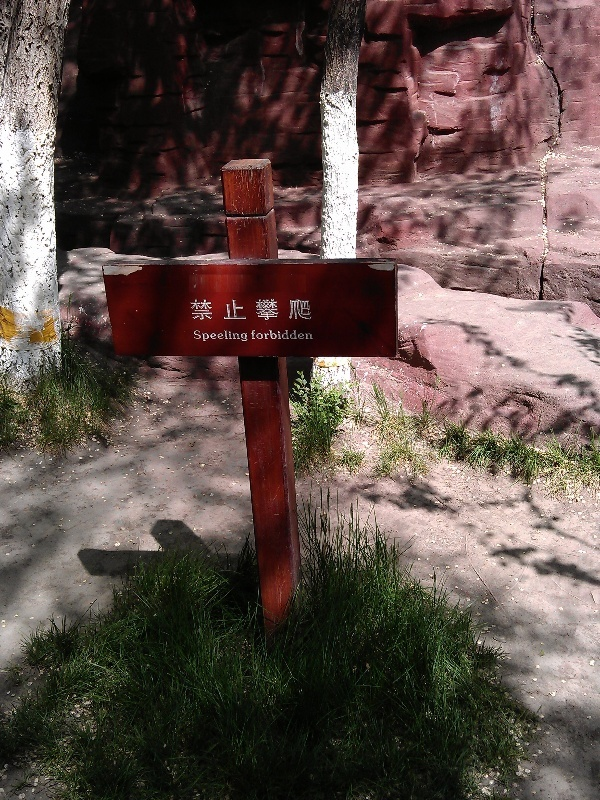text: (193, 299, 208, 321), (209, 299, 224, 321), (225, 299, 240, 321), (241, 299, 256, 321), (257, 299, 272, 321), (273, 299, 288, 321), (289, 299, 304, 321), (193, 331, 208, 342), (209, 331, 224, 342), (225, 331, 240, 342), (305, 299, 312, 321), (257, 330, 272, 340), (273, 330, 288, 340), (289, 330, 304, 340), (305, 330, 314, 340), (241, 331, 249, 342), (251, 330, 256, 340), (190, 299, 192, 321)
